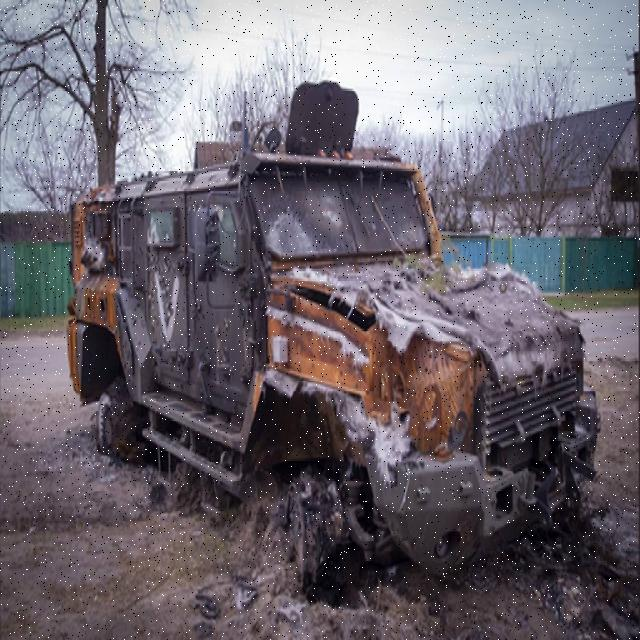CAR: (64, 111, 602, 613)
